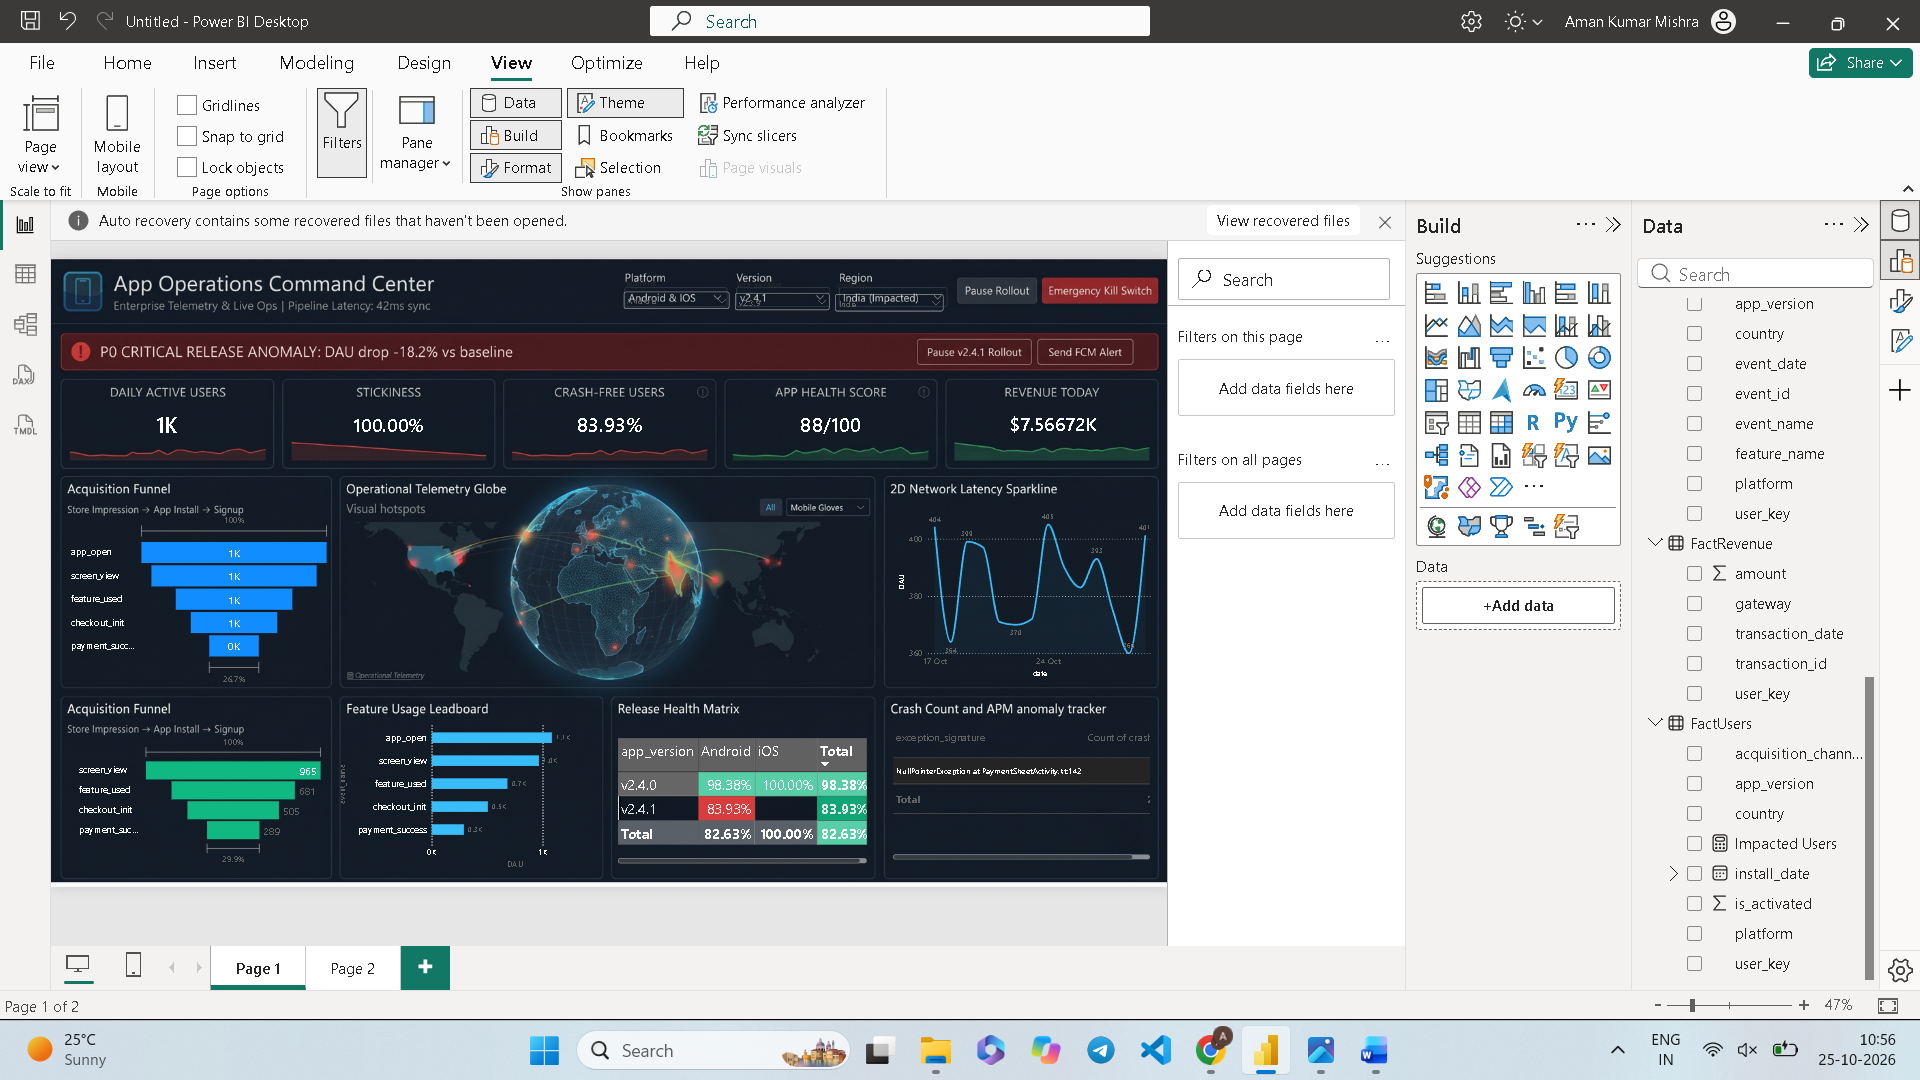

This screenshot's page, from the dashboard's own definition file:
{"tool":"powerbi","page":{"name":"Page 1","canvas":[1920,1080],"ordinal":0},"visuals":[{"type":"slicer","fields":{"Values":["FactUsers.platform"]},"box":[980,31.6,191.8,63.2],"z":0},{"type":"slicer","fields":{"Values":["FactUsers.app_version"]},"box":[1172,34,172,62],"z":1000},{"type":"slicer","fields":{"Values":["FactUsers.country"]},"box":[1344,36,196,62],"z":2000},{"type":"cardVisual","fields":{"Data":["_Measures.DAU"]},"box":[18,209,364,150],"z":3000},{"type":"cardVisual","fields":{"Data":["_Measures.Crash-Free Users %"]},"box":[778.8,208.8,365,151.2],"z":4000},{"type":"cardVisual","fields":{"Data":["_Measures.Stickiness"]},"box":[400,208.8,362.5,151.2],"z":5000},{"type":"cardVisual","fields":{"Data":["_Measures.Total Revenue"]},"box":[1541.2,208.8,363.8,151.2],"z":6000},{"type":"lineChart","fields":{"Category":["DimDate.date"],"Y":["_Measures.DAU"]},"box":[1440.9,407.6,478.6,326.1],"z":6001},{"type":"clusteredBarChart","fields":{"Category":["FactEvents.event_name"],"Y":["_Measures.DAU"]},"box":[494.3,782.9,455.7,277.1],"z":6002},{"type":"tableEx","fields":{"Values":["FactCrashes.exception_signature","FactCrashes.crash_id"]},"box":[1431.2,782.5,473.8,266.2],"z":6003},{"type":"funnel","fields":{"Category":["FactEvents.event_name"],"Y":["_Measures.DAU"]},"box":[31.6,428.6,452.3,307],"z":6005},{"type":"funnel","fields":{"Category":["FactEvents.event_name"],"Y":["_Measures.DAU"]},"box":[31.6,804.6,452.3,255.1],"z":6006},{"type":"pivotTable","fields":{"Columns":["FactCrashes.platform"],"Rows":["FactCrashes.app_version"],"Values":["_Measures.Crash-Free Users %"]},"box":[964,805,452,255],"z":6007},{"type":"cardVisual","fields":{"Data":["DimDate.App Health Score"]},"box":[1159.6,207.7,365.5,149.9],"z":6008}]}

Visuals, with their boxes on the page's 1920x1080 design canvas (x1, y1, x2, y2). These are canvas units, not pixel positions in the 1920x1080 screenshot, which may show the page scaled, cropped or inside an application window:
slicer - FactUsers.platform: left=980, top=32, right=1172, bottom=95
slicer - FactUsers.app_version: left=1172, top=34, right=1344, bottom=96
slicer - FactUsers.country: left=1344, top=36, right=1540, bottom=98
cardVisual - _Measures.DAU: left=18, top=209, right=382, bottom=359
cardVisual - _Measures.Crash-Free Users %: left=779, top=209, right=1144, bottom=360
cardVisual - _Measures.Stickiness: left=400, top=209, right=762, bottom=360
cardVisual - _Measures.Total Revenue: left=1541, top=209, right=1905, bottom=360
lineChart - DimDate.date x _Measures.DAU: left=1441, top=408, right=1920, bottom=734
clusteredBarChart - FactEvents.event_name x _Measures.DAU: left=494, top=783, right=950, bottom=1060
tableEx - FactCrashes.exception_signature x FactCrashes.crash_id: left=1431, top=782, right=1905, bottom=1049
funnel - FactEvents.event_name x _Measures.DAU: left=32, top=429, right=484, bottom=736
funnel - FactEvents.event_name x _Measures.DAU: left=32, top=805, right=484, bottom=1060
pivotTable - FactCrashes.platform x FactCrashes.app_version: left=964, top=805, right=1416, bottom=1060
cardVisual - DimDate.App Health Score: left=1160, top=208, right=1525, bottom=358
